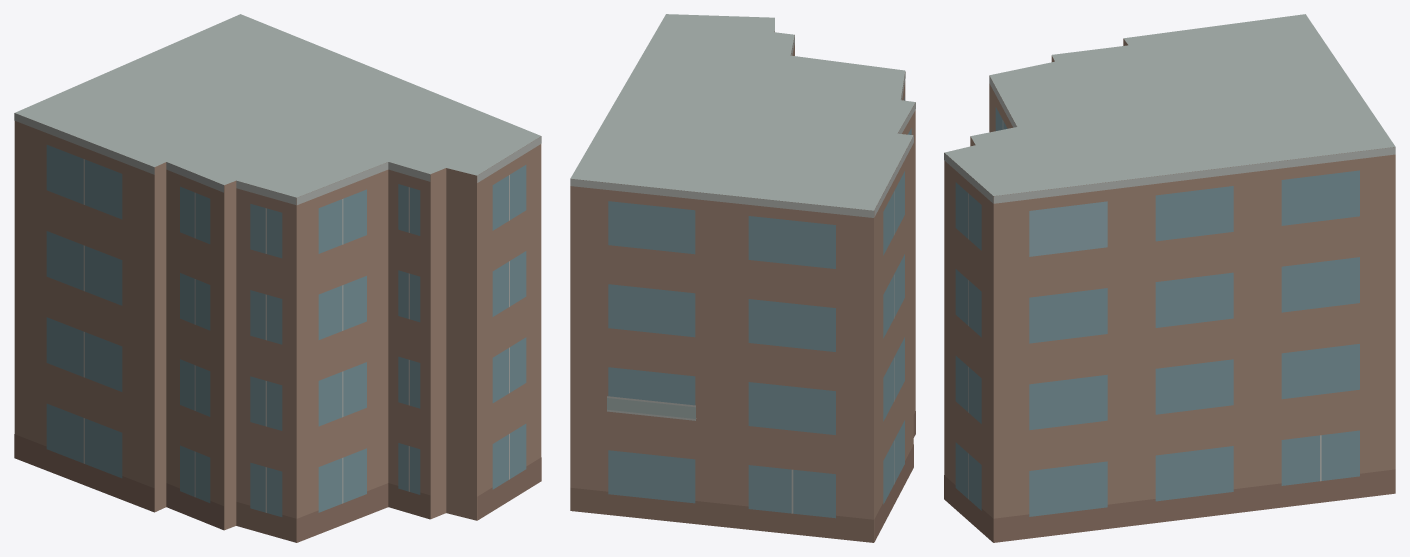
The model's file is survey-upis-32586011.glb.
3 views of the same model, side by side, from view 1: azimuth 30°, elevation 25°; view 2: azimuth 150°, elevation 25°; view 3: azimuth 270°, elevation 25° (orthographic). The views are drawn at different scales.
Parts seen in each view (by area): view 1: survey-upis-32586011.tmp; view 2: survey-upis-32586011.tmp; view 3: survey-upis-32586011.tmp.
Boxes of the visible parts, bbox=[...] form: survey-upis-32586011.tmp: bbox=[14, 14, 541, 542]; survey-upis-32586011.tmp: bbox=[570, 14, 915, 542]; survey-upis-32586011.tmp: bbox=[944, 14, 1395, 542].
Size of the model in its own units: 12.4 by 11 by 12.99.
